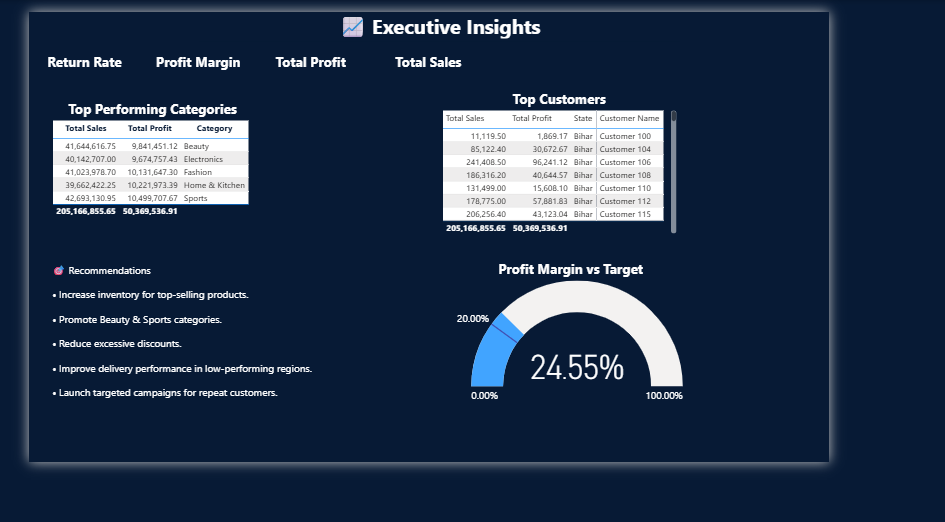

The dashboard page shown, as its layout file describes it:
{"tool":"powerbi","page":{"name":"Executive Insights","canvas":[1280,720],"ordinal":5},"visuals":[{"type":"shape","title":"📈 Executive Insights","box":[271.7,0,770.1,64.2],"z":0},{"type":"kpi","fields":{"Indicator":["Fact_Sales.Return Rate"]},"box":[15,64.2,149.7,149.7],"z":1000},{"type":"kpi","fields":{"Indicator":["Fact_Sales.Total Profit"]},"box":[376.5,64.2,149.7,149.7],"z":2000},{"type":"kpi","fields":{"Indicator":["Fact_Sales.Profit Margin"]},"box":[196.8,64.2,149.7,149.7],"z":3000},{"type":"kpi","fields":{"Indicator":["Fact_Sales.Total Sales"]},"box":[564.7,64.2,149.7,149.7],"z":4000},{"type":"tableEx","title":"Top Performing Categories","fields":{"Values":["Fact_Sales.Total Sales","Fact_Sales.Total Profit","Fact_Sales.Category"]},"box":[32.1,139,331.6,235.3],"z":5000},{"type":"tableEx","title":"Top Customers","fields":{"Values":["Fact_Sales.Total Sales","Fact_Sales.Total Profit","Fact_Sales.State","Fact_Sales.Customer Name"]},"box":[656.7,124.1,385,235.3],"z":6000},{"type":"textbox","box":[32.1,395.7,556.2,239.6],"z":7000},{"type":"gauge","title":"Profit Margin vs Target","fields":{"Y":["Fact_Sales.Profit Margin"],"TargetValue":["Fact_Sales.Target Profit Margin"]},"box":[639.6,395.7,453.5,239.6],"z":8000}]}

Visuals, with their boxes in screenshot pixels (x1, y1, x2, y2), scaled from the page's 1280x720 canvas onto the 945x522 screenshot:
"📈 Executive Insights" shape: box(201, 0, 769, 47)
kpi - Fact_Sales.Return Rate: box(11, 47, 122, 155)
kpi - Fact_Sales.Total Profit: box(278, 47, 388, 155)
kpi - Fact_Sales.Profit Margin: box(145, 47, 256, 155)
kpi - Fact_Sales.Total Sales: box(417, 47, 527, 155)
"Top Performing Categories" tableEx: box(24, 101, 269, 271)
"Top Customers" tableEx: box(485, 90, 769, 261)
textbox: box(24, 287, 434, 461)
"Profit Margin vs Target" gauge: box(472, 287, 807, 461)
